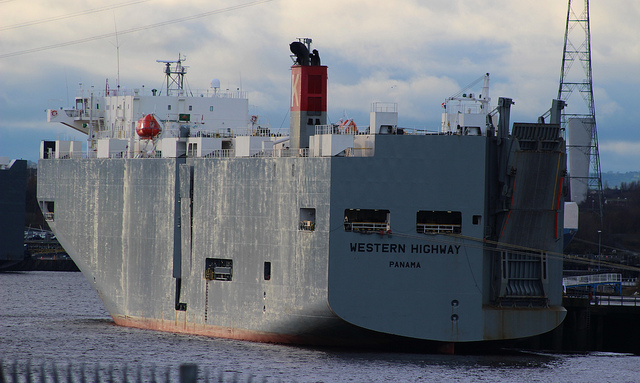PCC: (37, 43, 564, 357)
